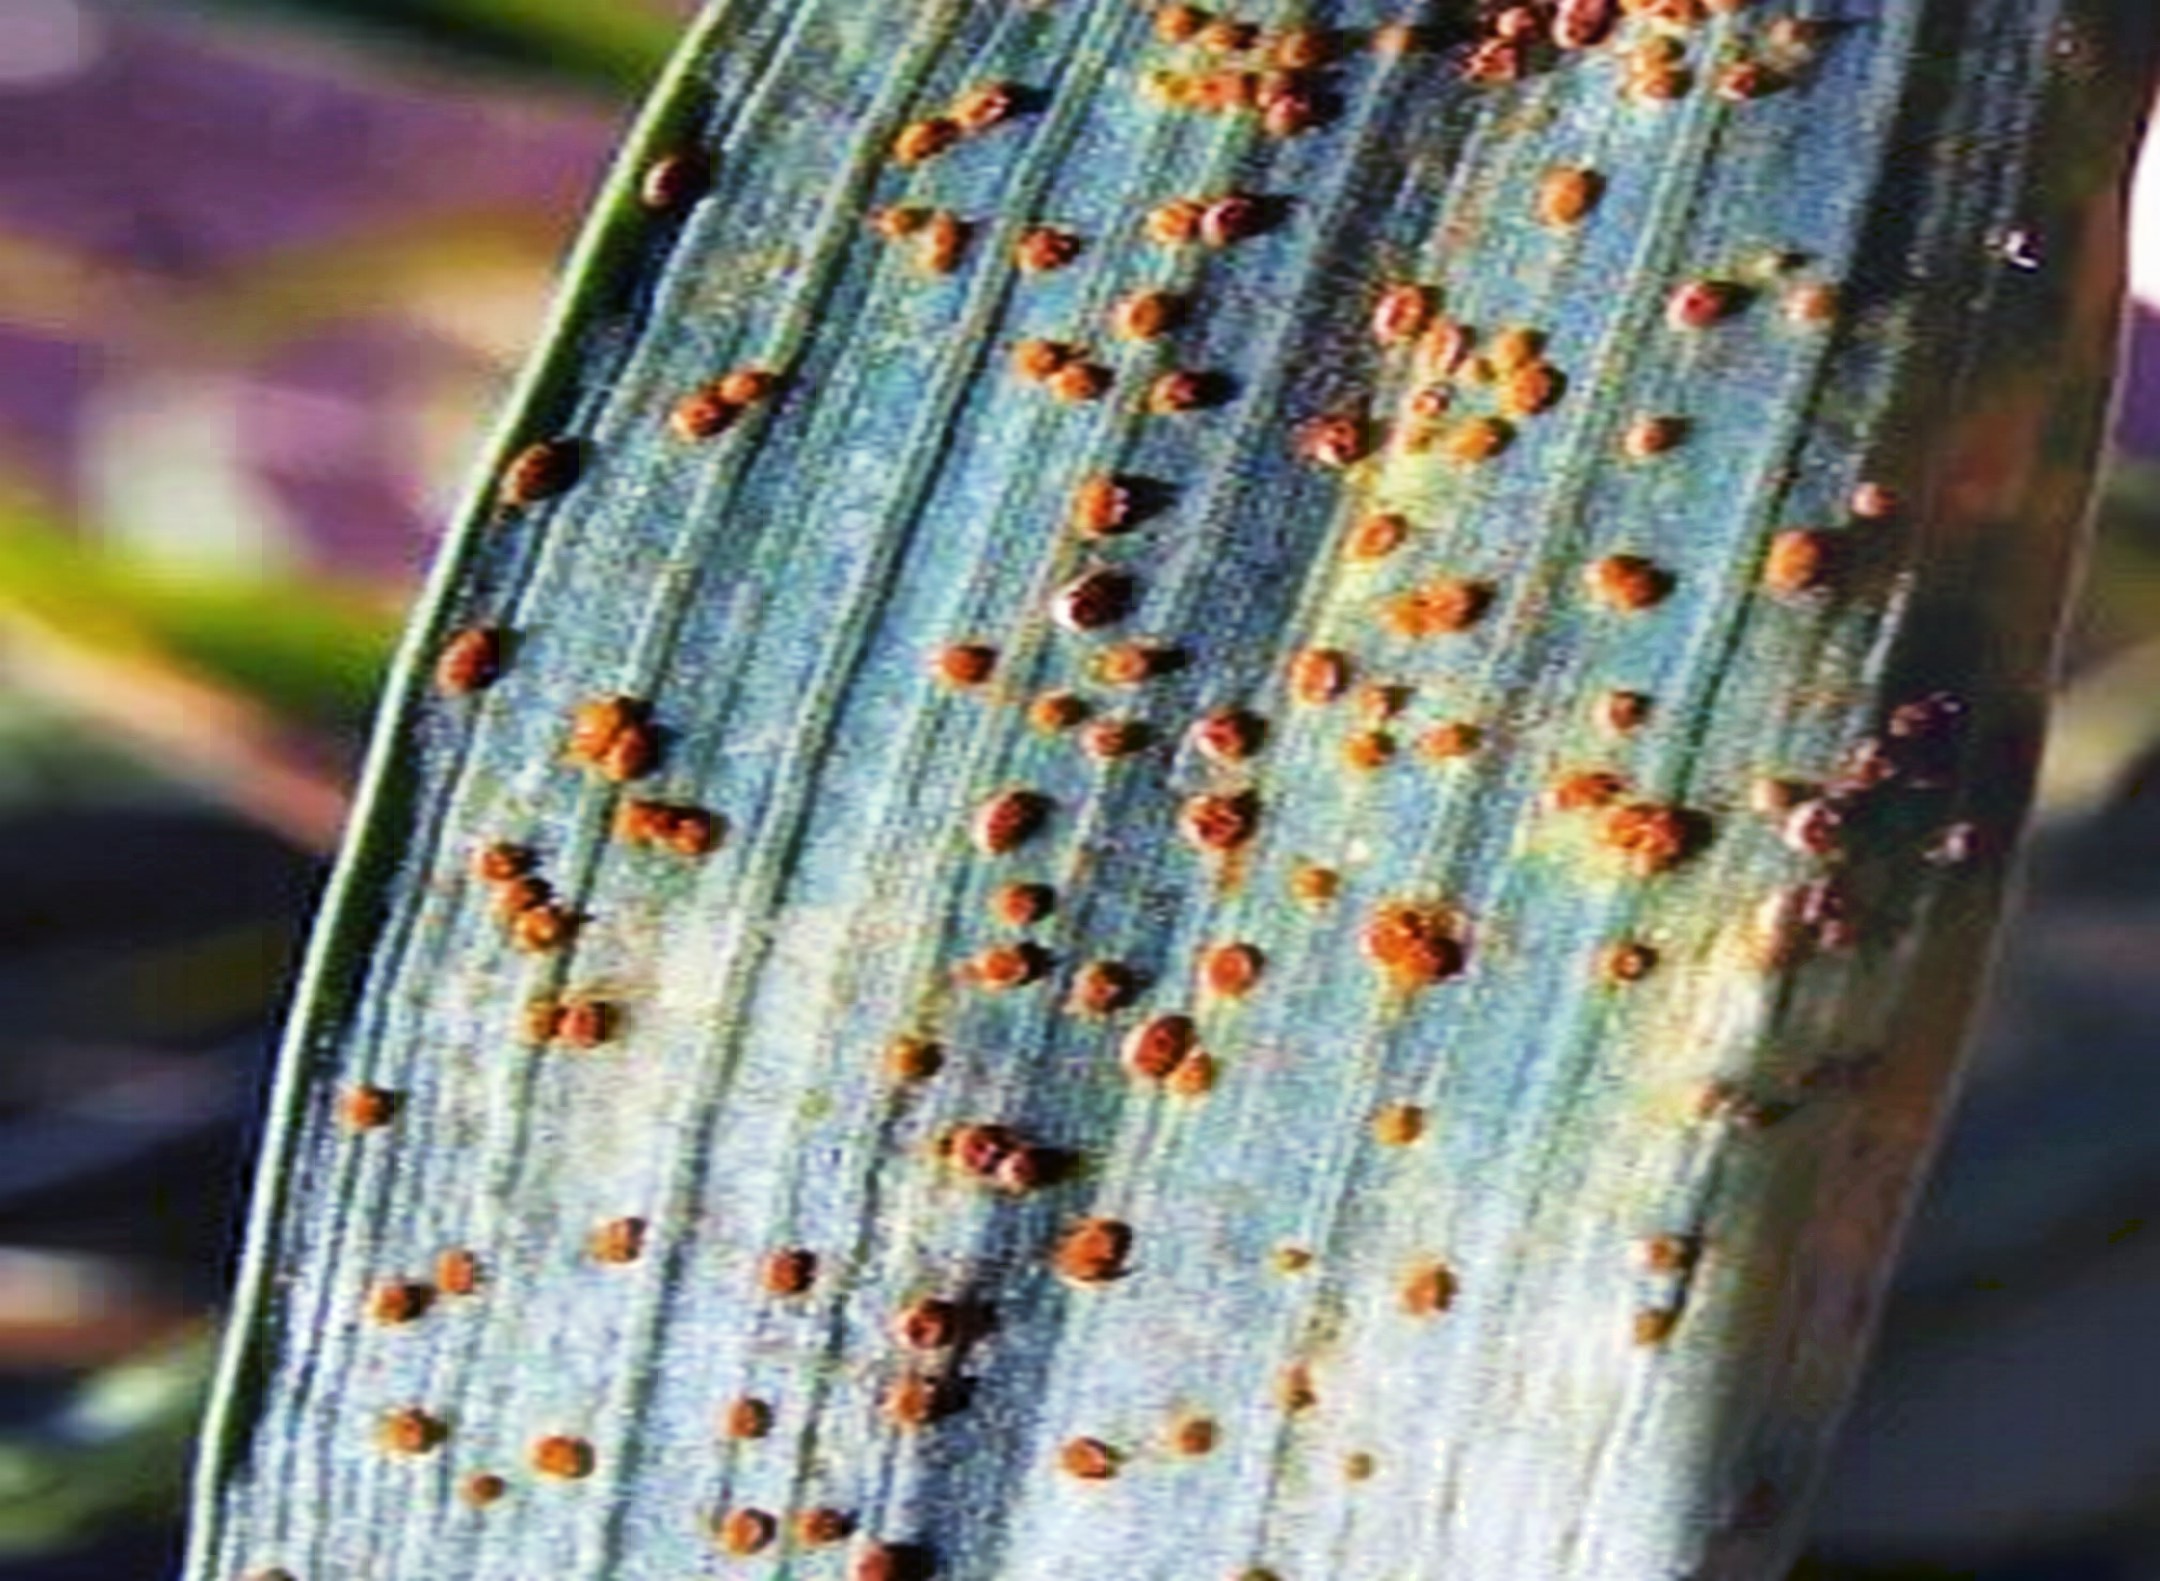Leaf Rust: (184, 75, 1939, 1485)
